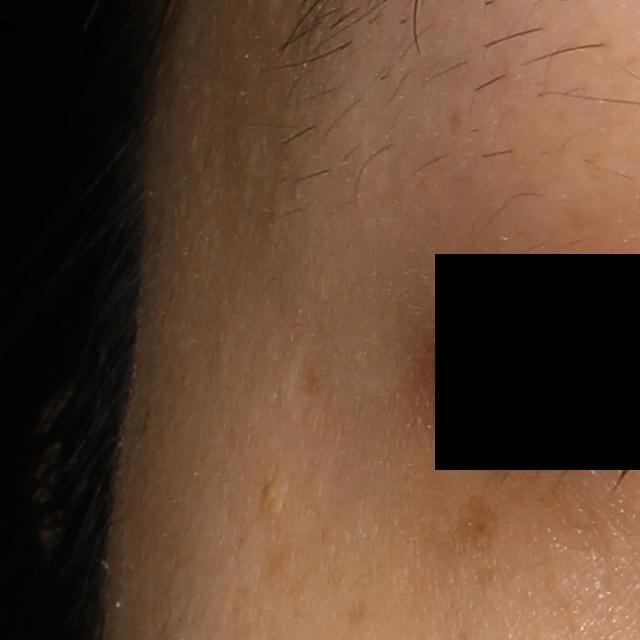atrophic_scar: (284, 344, 327, 407)
melasma: (441, 488, 500, 557), (344, 596, 371, 625)
